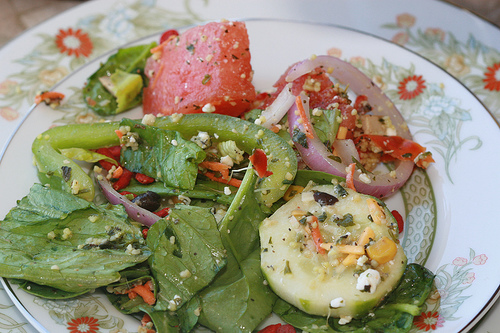cucumber: (258, 184, 408, 319)
